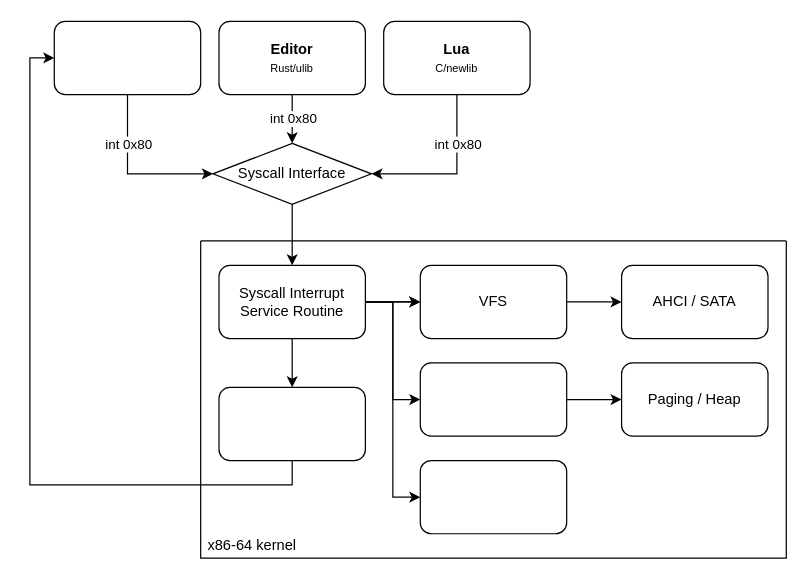
Image size: 808x580. Some labels were removed from this diagram. The centre of each missing label's shape, as x and y in pixels:
Memory Manager: point (493, 399)
Return from interrupt: point (291, 423)
Scheduler (execute, yield, exit, etc): point (493, 496)
Shell Rust/ulib: point (127, 57)
